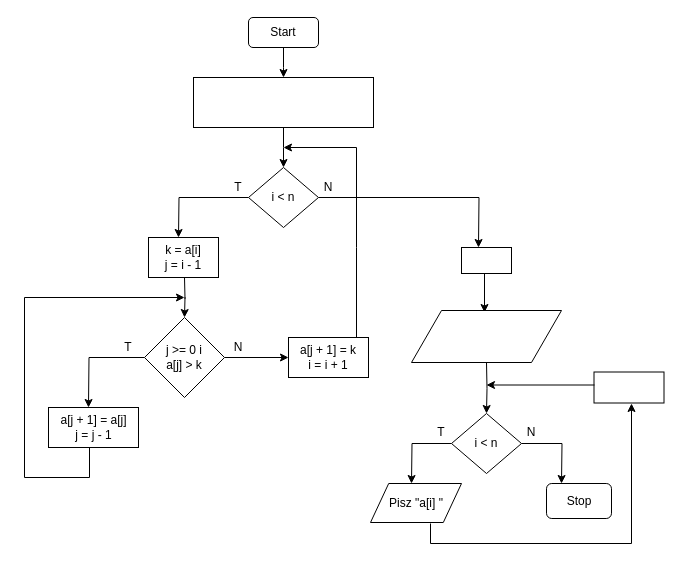
This 682x569 diagram has some shape labels left out. Each missing label, with the centre of its shape:
a = {5, 7, 1, 8, 6, 2, 0, 4, 9, 3} n = 10 i = 1: the point at 283,102
i = 0: the point at 486,260
i = i + 1: the point at 628,387
Pisz "Posortowane liczby babelkowo: ": the point at 486,336
